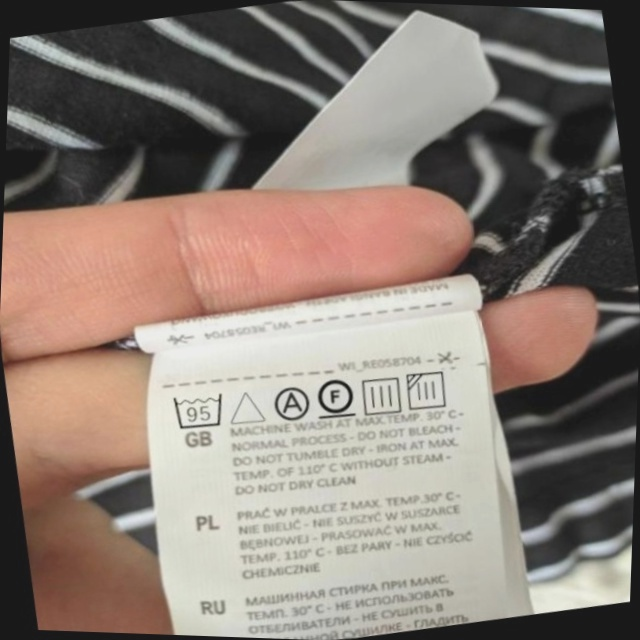95C: (168, 385, 231, 435)
bleach: (225, 383, 268, 431)
drip_dry: (356, 370, 408, 420)
drip_dry_in_shade: (402, 365, 456, 417)
dry_clean: (268, 381, 313, 425)
dry_clean_petrol_only: (312, 370, 360, 423)
